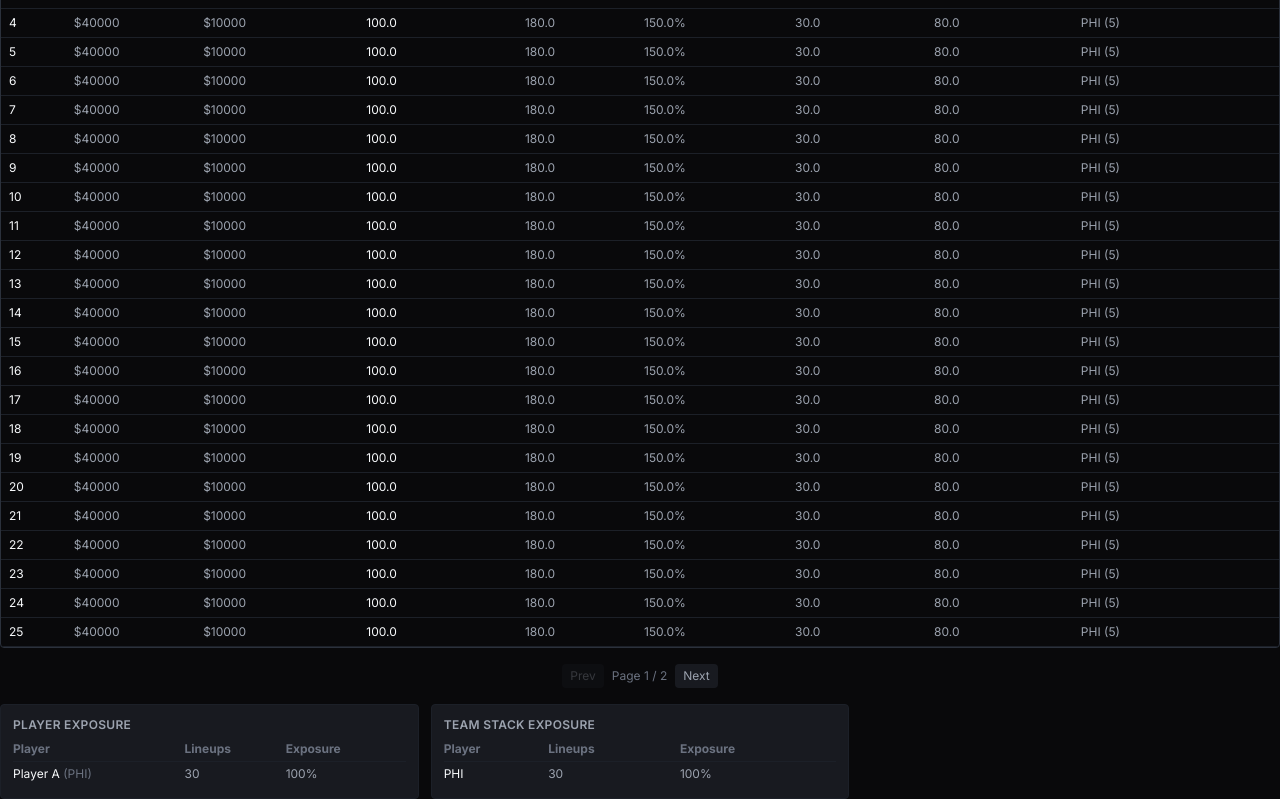
LineupsPanel › paginates when there are more than 25 lineups
(page scrolled)
Expected: the text "Page 1 / 2" is shown, [612,668,667,684]
Step 1. Click the button "Next" → (696, 676), box [675,664,718,688]
(page scrolled)
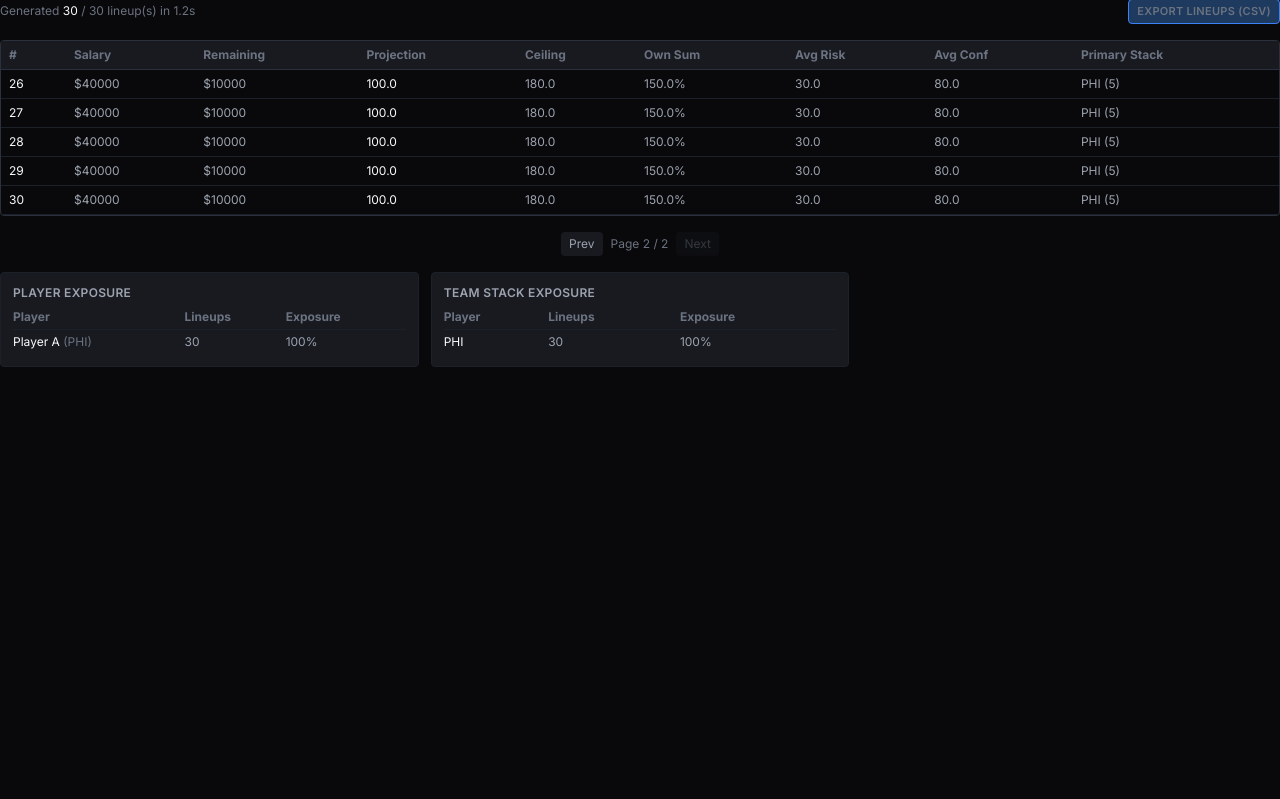
Now the text "Page 2 / 2" is shown, box [611,236,668,252]
